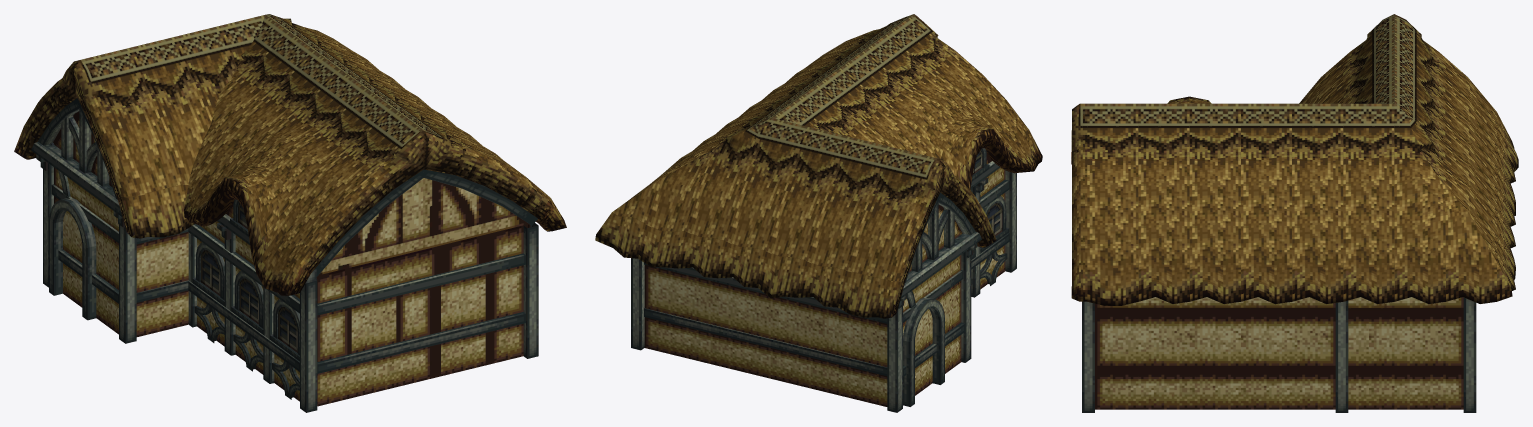
The model's file is EnvBdgMD_Forest_A_Outdoor_House_C.fbx.
3 renders of one model, left to right at view 1: azimuth 30°, elevation 25°; view 2: azimuth 150°, elevation 25°; view 3: azimuth 270°, elevation 25°, orthographic. The views are drawn at different scales.
Visible parts, largest first — view 1: EnvBdgMD_Forest_A_Outdoor_House_C; view 2: EnvBdgMD_Forest_A_Outdoor_House_C; view 3: EnvBdgMD_Forest_A_Outdoor_House_C.
Part boxes in pixels (x1,y1,x2,y2): EnvBdgMD_Forest_A_Outdoor_House_C: (14, 14, 566, 412); EnvBdgMD_Forest_A_Outdoor_House_C: (595, 14, 1042, 412); EnvBdgMD_Forest_A_Outdoor_House_C: (1071, 14, 1518, 412).
Size of the model in its own units: 759 by 550 by 874.
